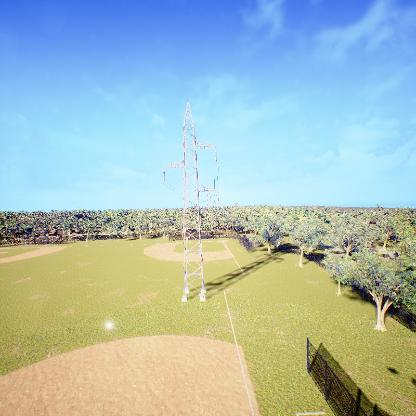tower: (159, 101, 221, 307)
